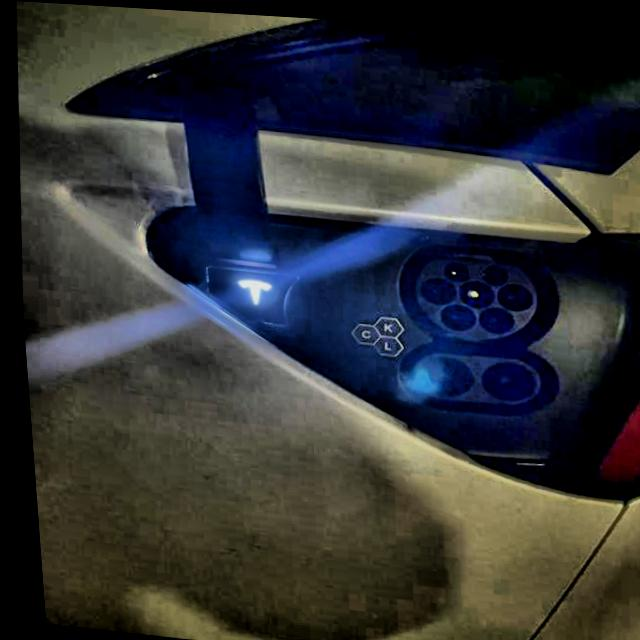inlet: (411, 254, 533, 335)
inlet-above-left: (441, 257, 466, 277)
inlet-above-right: (479, 260, 503, 279)
inlet-below-left: (436, 299, 472, 325)
inlet-below-right: (475, 302, 510, 328)
inlet-center: (455, 276, 491, 302)
inlet-center-left: (416, 272, 453, 300)
inlet-center-right: (493, 278, 530, 305)
